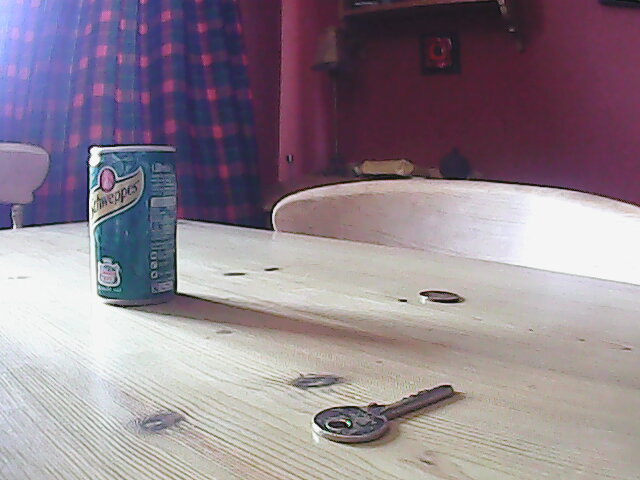Can: (80, 141, 184, 309)
Coin: (417, 286, 460, 305)
Key: (308, 382, 458, 448)
